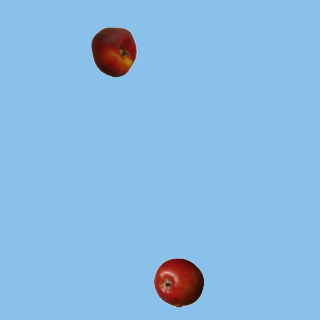Apple Braeburn: (153, 257, 203, 307)
Nectarine Flat: (88, 26, 138, 76)
